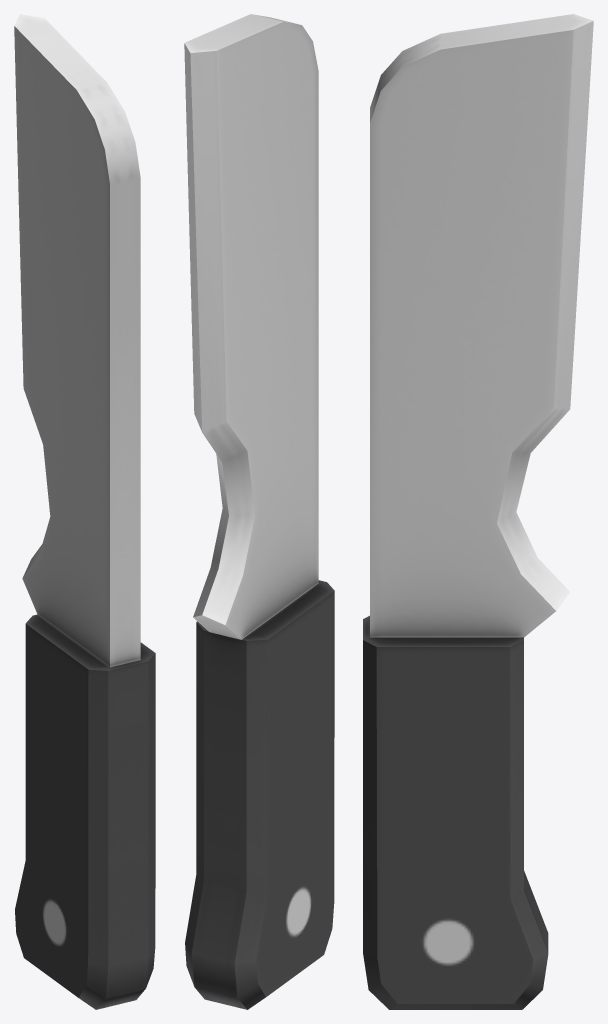
Rendered from MeleeWeaponAgent_PigKnife.fbx.
3 renders of one model, left to right at view 1: azimuth 30°, elevation 25°; view 2: azimuth 150°, elevation 25°; view 3: azimuth 270°, elevation 25°, orthographic. The views are drawn at different scales.
Visible parts, largest first — view 1: Pfb_Knife; view 2: Pfb_Knife; view 3: Pfb_Knife.
Part boxes in pixels (box(x1,y1,x2,y2)): Pfb_Knife: box(14, 14, 155, 1009); Pfb_Knife: box(184, 14, 334, 1009); Pfb_Knife: box(363, 14, 593, 1009).
Bounding box in the file's own units: 0.0813 × 1.06 × 0.2271.
